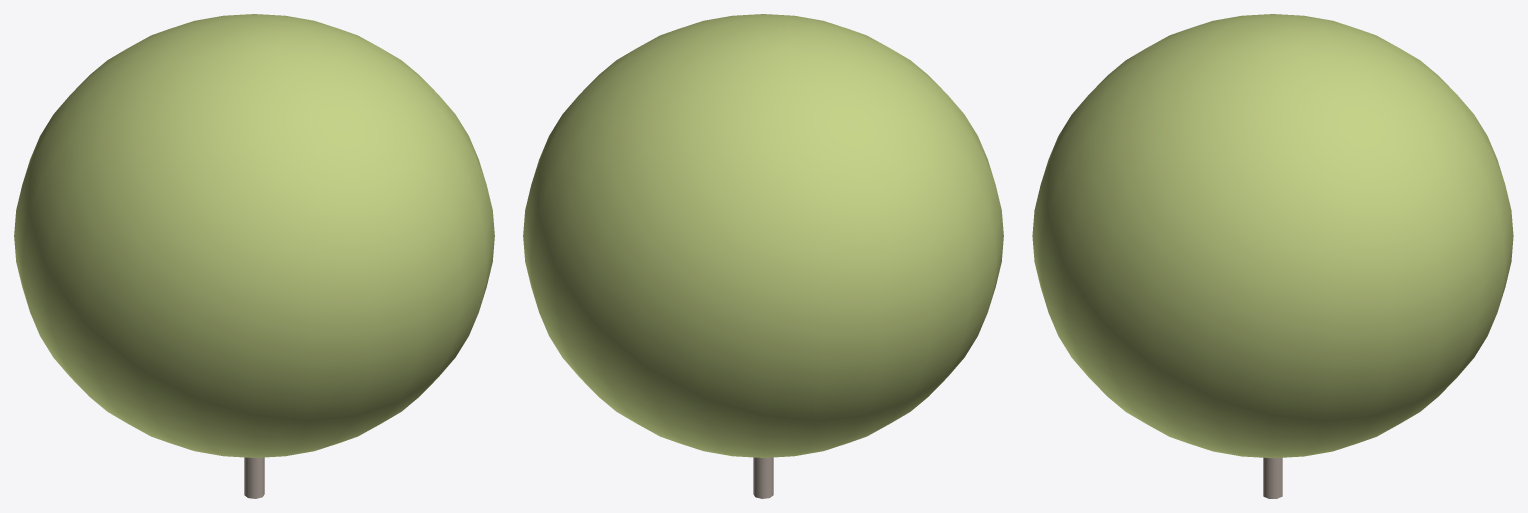
Rendered from ArbutusUnedo.glb.
The picture shows the model from 3 angles, left to right: view 1: azimuth 30°, elevation 25°; view 2: azimuth 150°, elevation 25°; view 3: azimuth 270°, elevation 25°; orthographic projection.
Parts seen in each view (by area): view 1: Strawberry_Tree__Schematic_LOD3; view 2: Strawberry_Tree__Schematic_LOD3; view 3: Strawberry_Tree__Schematic_LOD3.
Boxes of the visible parts, bbox=[...] form: Strawberry_Tree__Schematic_LOD3: bbox=[14, 14, 494, 498]; Strawberry_Tree__Schematic_LOD3: bbox=[523, 14, 1003, 498]; Strawberry_Tree__Schematic_LOD3: bbox=[1032, 14, 1513, 498].
Bounding box in the file's own units: 7 × 7.33 × 7.
